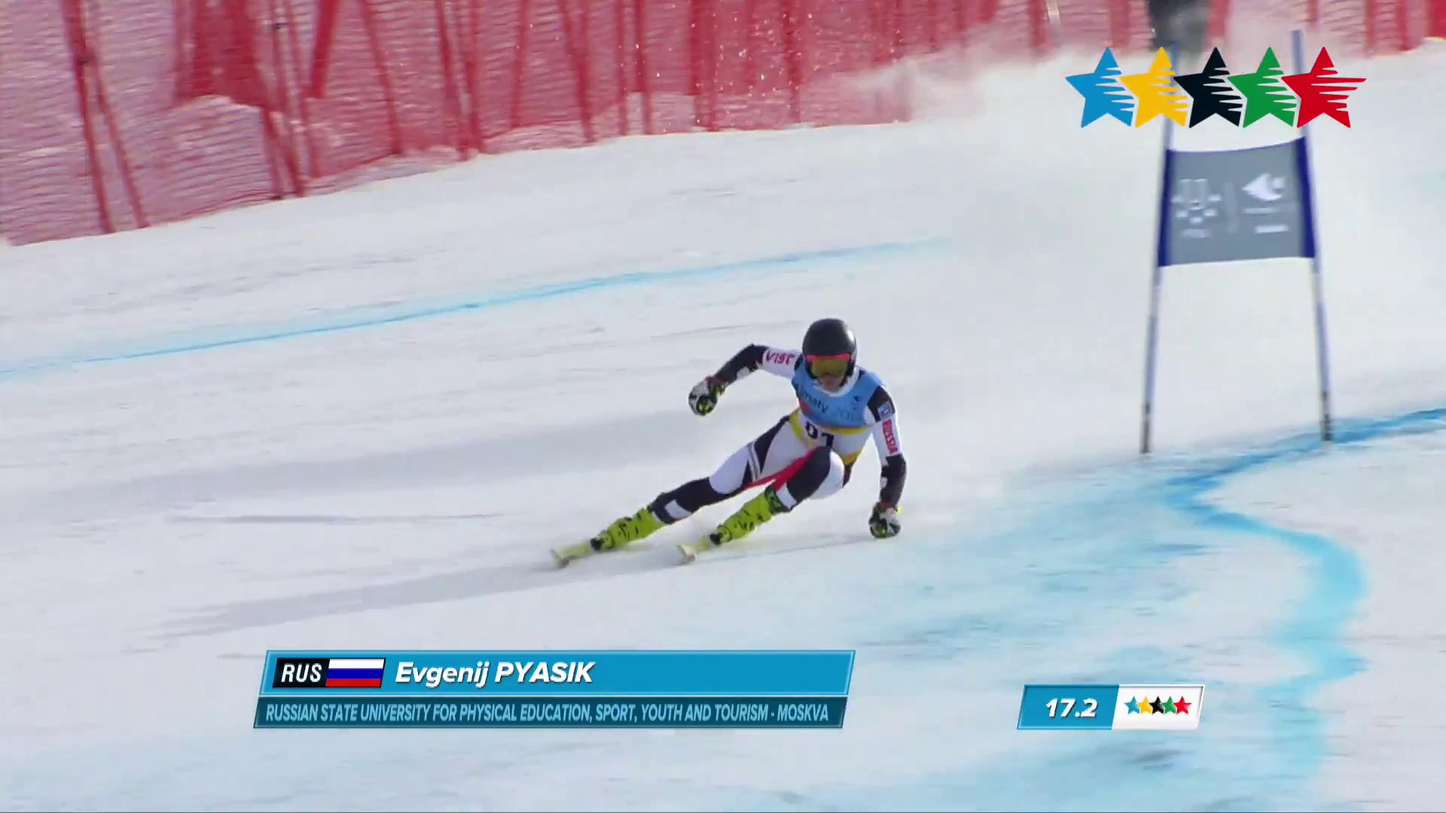gate: (1139, 129, 1333, 454), (1139, 196, 1166, 454), (1162, 131, 1172, 195)
